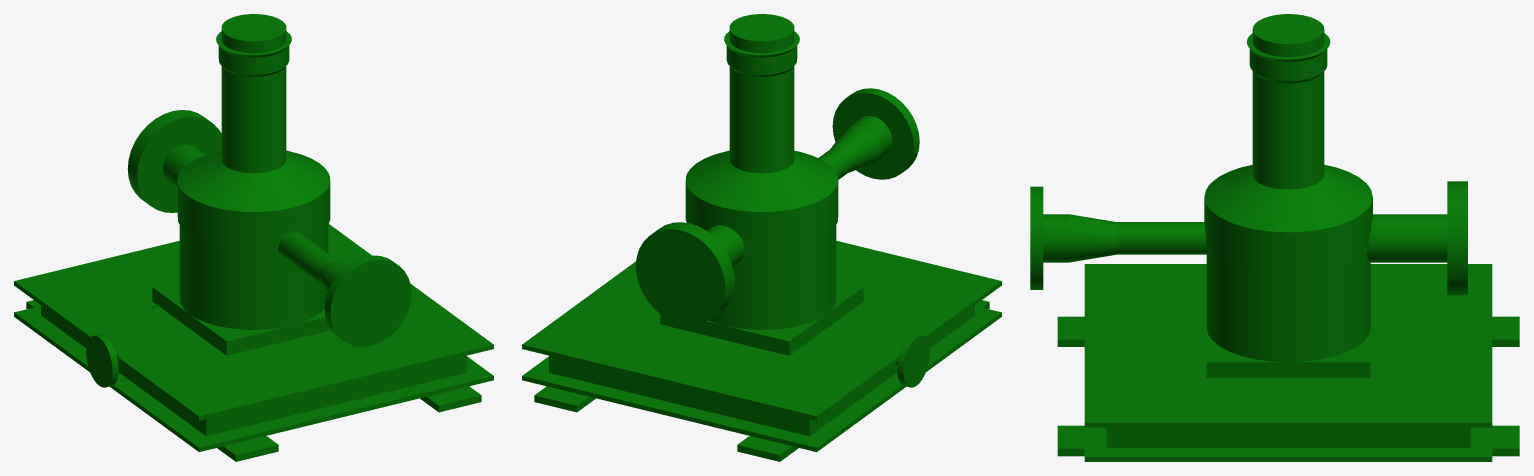
File: Image-1710907768450-2281130553248_43-PA50.fbx
3 views of the same model, side by side, from view 1: azimuth 30°, elevation 25°; view 2: azimuth 150°, elevation 25°; view 3: azimuth 270°, elevation 25° (orthographic). The views are drawn at different scales.
Parts seen in each view (by area): view 1: BOX 2 of SUBEQUIPMENT /43-PA50/PRIM, CYLINDER 1 of SUBEQUIPMENT /43-PA50/PRIM, BOX 1 of SUBEQUIPMENT /43-PA50/PRIM, CYLINDER 3 of SUBEQUIPMENT /43-PA50/PRIM, CONE 1 of SUBEQUIPMENT /43-PA50/PRIM, /43-PA50/N2, BOX 3 of SUBEQUIPMENT /43-PA50/PRIM, /43-PA50/N1, CYLINDER 2 of SUBEQUIPMENT /43-PA50/PRIM, BOX 4 of SUBEQUIPMENT /43-PA50/PRIM, CYLINDER 4 of SUBEQUIPMENT /43-PA50/PRIM, CYLINDER 1 of SUBEQUIPMENT /43-PA50/NOZZ (+5 smaller); view 2: BOX 2 of SUBEQUIPMENT /43-PA50/PRIM, /43-PA50/N1, CYLINDER 1 of SUBEQUIPMENT /43-PA50/PRIM, BOX 1 of SUBEQUIPMENT /43-PA50/PRIM, CYLINDER 3 of SUBEQUIPMENT /43-PA50/PRIM, CONE 1 of SUBEQUIPMENT /43-PA50/PRIM, BOX 3 of SUBEQUIPMENT /43-PA50/PRIM, CYLINDER 2 of SUBEQUIPMENT /43-PA50/PRIM, /43-PA50/N2, BOX 4 of SUBEQUIPMENT /43-PA50/PRIM, CYLINDER 4 of SUBEQUIPMENT /43-PA50/PRIM, CONE 1 of SUBEQUIPMENT /43-PA50/NOZZ (+6 smaller); view 3: BOX 2 of SUBEQUIPMENT /43-PA50/PRIM, CYLINDER 1 of SUBEQUIPMENT /43-PA50/PRIM, CYLINDER 3 of SUBEQUIPMENT /43-PA50/PRIM, CONE 1 of SUBEQUIPMENT /43-PA50/PRIM, BOX 3 of SUBEQUIPMENT /43-PA50/PRIM, CYLINDER 2 of SUBEQUIPMENT /43-PA50/PRIM, BOX 1 of SUBEQUIPMENT /43-PA50/PRIM, /43-PA50/N1, BOX 4 of SUBEQUIPMENT /43-PA50/PRIM, CYLINDER 1 of SUBEQUIPMENT /43-PA50/NOZZ, CYLINDER 4 of SUBEQUIPMENT /43-PA50/PRIM, /43-PA50/N2 (+7 smaller).
Boxes of the visible parts, left/top/right/bottom form: BOX 2 of SUBEQUIPMENT /43-PA50/PRIM: left=14, top=224, right=493, bottom=420; CYLINDER 1 of SUBEQUIPMENT /43-PA50/PRIM: left=179, top=225, right=328, bottom=329; BOX 1 of SUBEQUIPMENT /43-PA50/PRIM: left=14, top=306, right=493, bottom=452; CYLINDER 3 of SUBEQUIPMENT /43-PA50/PRIM: left=221, top=66, right=286, bottom=173; CONE 1 of SUBEQUIPMENT /43-PA50/PRIM: left=178, top=150, right=329, bottom=211; /43-PA50/N2: left=324, top=255, right=411, bottom=346; BOX 3 of SUBEQUIPMENT /43-PA50/PRIM: left=41, top=305, right=466, bottom=436; /43-PA50/N1: left=127, top=110, right=221, bottom=212; CYLINDER 2 of SUBEQUIPMENT /43-PA50/PRIM: left=177, top=150, right=330, bottom=249; BOX 4 of SUBEQUIPMENT /43-PA50/PRIM: left=152, top=280, right=330, bottom=355; CYLINDER 4 of SUBEQUIPMENT /43-PA50/PRIM: left=221, top=14, right=286, bottom=52; CYLINDER 1 of SUBEQUIPMENT /43-PA50/NOZZ: left=278, top=231, right=338, bottom=284; BOX 2 of SUBEQUIPMENT /43-PA50/PRIM: left=522, top=241, right=1001, bottom=420; /43-PA50/N1: left=635, top=222, right=745, bottom=325; CYLINDER 1 of SUBEQUIPMENT /43-PA50/PRIM: left=709, top=225, right=836, bottom=329; BOX 1 of SUBEQUIPMENT /43-PA50/PRIM: left=522, top=306, right=1001, bottom=452; CYLINDER 3 of SUBEQUIPMENT /43-PA50/PRIM: left=729, top=66, right=794, bottom=173; CONE 1 of SUBEQUIPMENT /43-PA50/PRIM: left=686, top=150, right=837, bottom=211; BOX 3 of SUBEQUIPMENT /43-PA50/PRIM: left=549, top=305, right=974, bottom=436; CYLINDER 2 of SUBEQUIPMENT /43-PA50/PRIM: left=685, top=150, right=838, bottom=249; /43-PA50/N2: left=832, top=88, right=919, bottom=179; BOX 4 of SUBEQUIPMENT /43-PA50/PRIM: left=660, top=280, right=863, bottom=355; CYLINDER 4 of SUBEQUIPMENT /43-PA50/PRIM: left=729, top=14, right=794, bottom=52; CONE 1 of SUBEQUIPMENT /43-PA50/NOZZ: left=830, top=124, right=880, bottom=172; BOX 2 of SUBEQUIPMENT /43-PA50/PRIM: left=1084, top=264, right=1492, bottom=427; CYLINDER 1 of SUBEQUIPMENT /43-PA50/PRIM: left=1206, top=249, right=1370, bottom=362; CYLINDER 3 of SUBEQUIPMENT /43-PA50/PRIM: left=1252, top=58, right=1324, bottom=189; CONE 1 of SUBEQUIPMENT /43-PA50/PRIM: left=1204, top=165, right=1372, bottom=232; BOX 3 of SUBEQUIPMENT /43-PA50/PRIM: left=1106, top=427, right=1470, bottom=447; CYLINDER 2 of SUBEQUIPMENT /43-PA50/PRIM: left=1204, top=164, right=1372, bottom=274; BOX 1 of SUBEQUIPMENT /43-PA50/PRIM: left=1084, top=427, right=1492, bottom=461; /43-PA50/N1: left=1366, top=181, right=1467, bottom=295; BOX 4 of SUBEQUIPMENT /43-PA50/PRIM: left=1206, top=328, right=1370, bottom=377; CYLINDER 1 of SUBEQUIPMENT /43-PA50/NOZZ: left=1117, top=222, right=1207, bottom=254; CYLINDER 4 of SUBEQUIPMENT /43-PA50/PRIM: left=1252, top=14, right=1324, bottom=57; /43-PA50/N2: left=1030, top=186, right=1068, bottom=289.
Bounding box in the file's own units: 0.707 × 0.9 × 0.7328.
